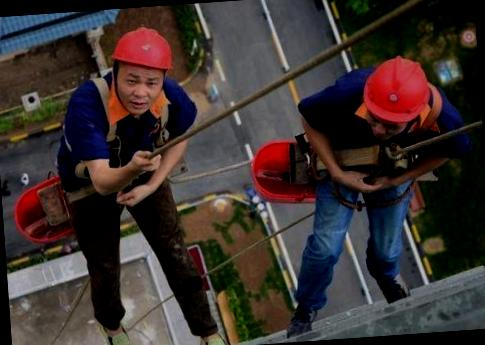helmet: (355, 52, 433, 128), (104, 25, 180, 82)
person: (37, 20, 217, 345)
